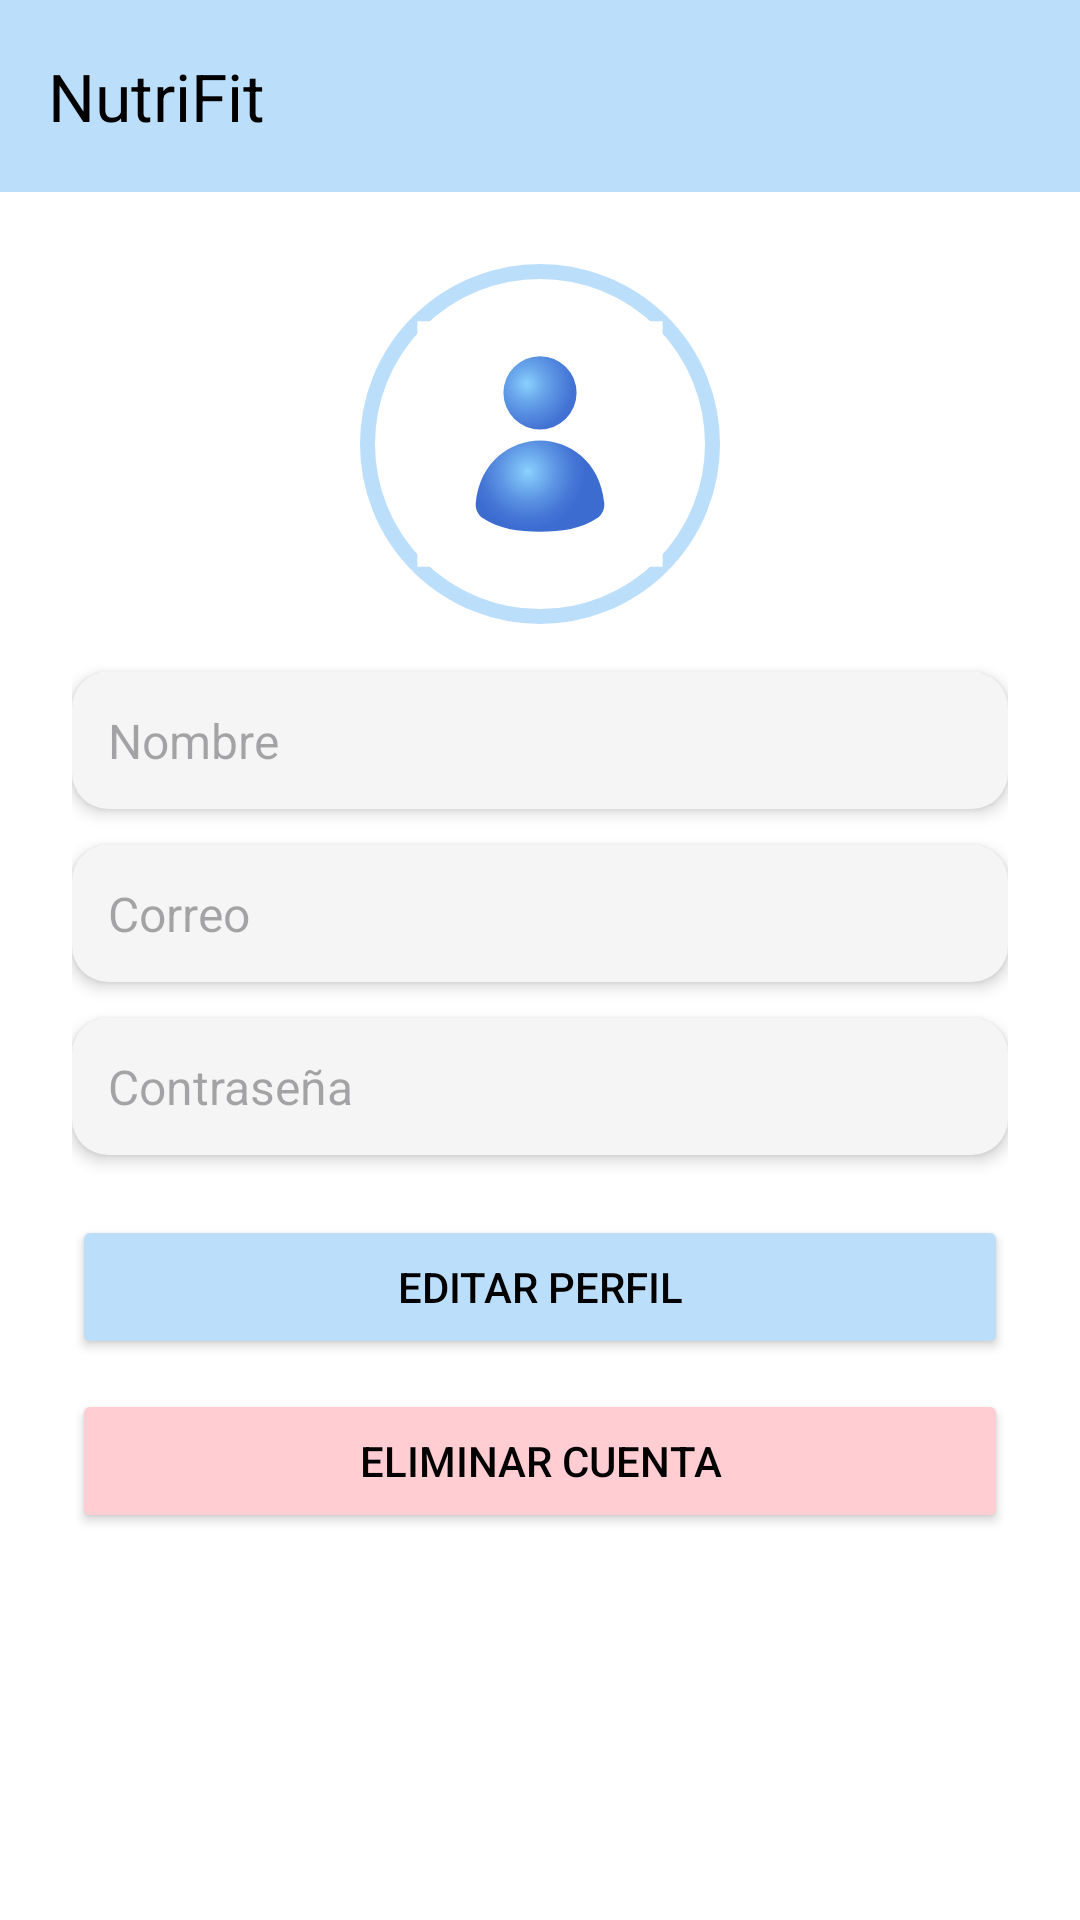

Where icons sit on this 1080w x 1920h app screen, as BBox(x1, y1, x2, y2):
perfil: BBox(360, 264, 720, 624)
